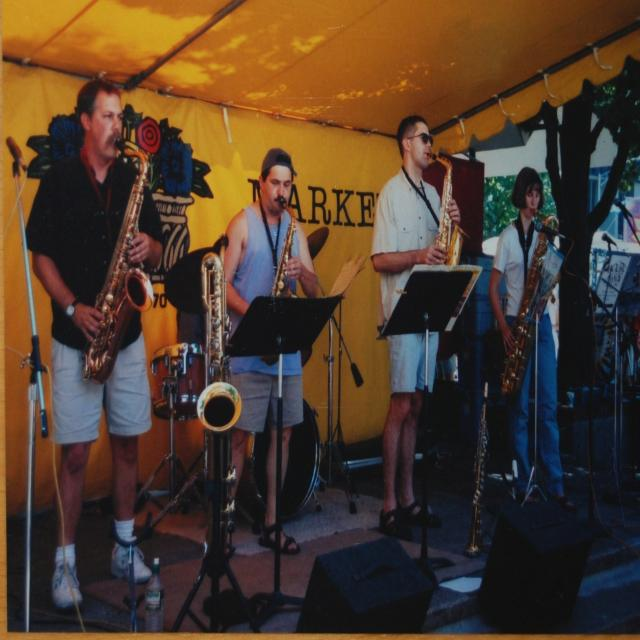drums: (147, 224, 340, 521)
saxophone: (84, 135, 157, 386), (498, 207, 557, 396), (195, 248, 244, 432), (426, 151, 468, 267), (272, 196, 296, 301)
